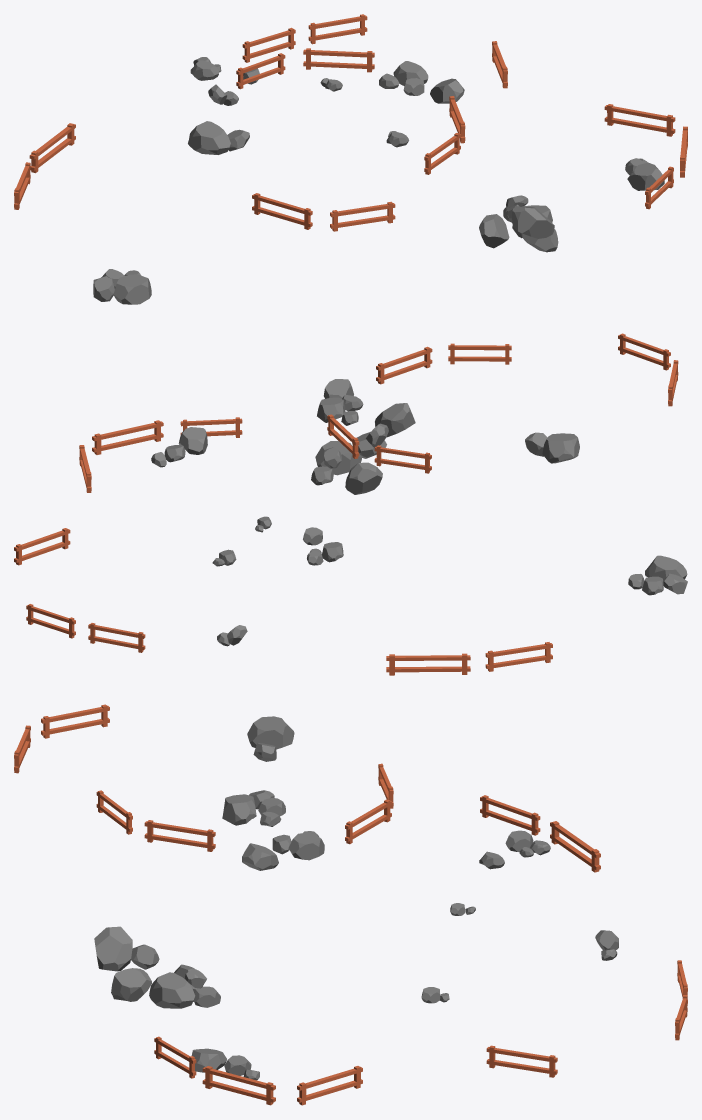
The model's file is Props.glb.
3 renders of one model, top to bottom at view 1: azimuth 30°, elevation 25°; view 2: azimuth 150°, elevation 25°; view 3: azimuth 270°, elevation 25°, orthographic. The views are drawn at different scales.
Parts seen in each view (by area): view 1: Prop.028, Prop.046, Prop.007, Prop.017, Prop.010, Prop.012, Prop.011, Prop.005, Prop.041, Prop.001, Prop.002, Prop.019 (+7 smaller); view 2: Prop.005, Prop.004, Prop.028, Prop.041, Prop.008, Prop.046, Prop.013, Prop.014, Prop.006, Prop.002, Prop.012, Prop.009 (+7 smaller); view 3: Prop.046, Prop.049, Prop.028, Prop.004, Prop.047, Prop.006, Prop.014, Prop.007, Prop.011, Prop.005, Prop.008, Prop.017 (+6 smaller).
Part boxes in pixels (<box>): Prop.028: <box>188,121,230,154</box>; Prop.046: <box>512,206,554,238</box>; Prop.007: <box>604,104,675,136</box>; Prop.017: <box>113,274,151,304</box>; Prop.010: <box>303,48,374,72</box>; Prop.012: <box>330,201,395,231</box>; Prop.011: <box>252,193,312,229</box>; Prop.005: <box>29,123,75,173</box>; Prop.041: <box>479,214,509,248</box>; Prop.001: <box>308,14,367,44</box>; Prop.002: <box>242,27,295,62</box>; Prop.019: <box>627,162,664,190</box>; Prop.005: <box>386,653,470,675</box>; Prop.004: <box>92,420,163,454</box>; Prop.028: <box>542,433,579,463</box>; Prop.041: <box>345,462,382,494</box>; Prop.008: <box>485,642,552,671</box>; Prop.046: <box>375,403,415,437</box>; Prop.013: <box>448,343,511,364</box>; Prop.014: <box>376,346,432,384</box>; Prop.006: <box>14,528,70,565</box>; Prop.002: <box>88,623,145,652</box>; Prop.012: <box>618,333,670,370</box>; Prop.009: <box>374,445,431,473</box>; Prop.046: <box>94,926,132,971</box>; Prop.049: <box>149,972,195,1008</box>; Prop.028: <box>247,716,294,749</box>; Prop.004: <box>202,1066,275,1105</box>; Prop.047: <box>111,968,151,1001</box>; Prop.006: <box>486,1045,557,1077</box>; Prop.014: <box>144,820,215,851</box>; Prop.007: <box>297,1066,362,1105</box>; Prop.011: <box>41,704,109,738</box>; Prop.005: <box>550,821,600,872</box>; Prop.008: <box>480,795,540,835</box>; Prop.017: <box>222,794,256,825</box>.
Bounding box in the file's own units: 13.95 × 3.3 × 13.01.
